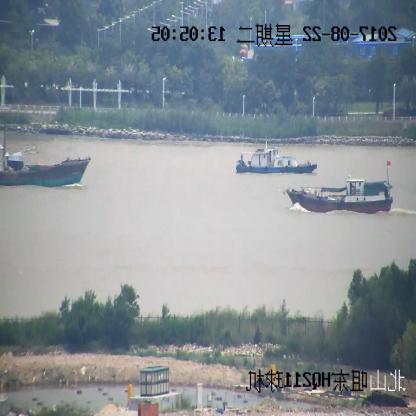Fishing Boat: (284, 160, 394, 214), (0, 134, 89, 188), (235, 136, 316, 175)
